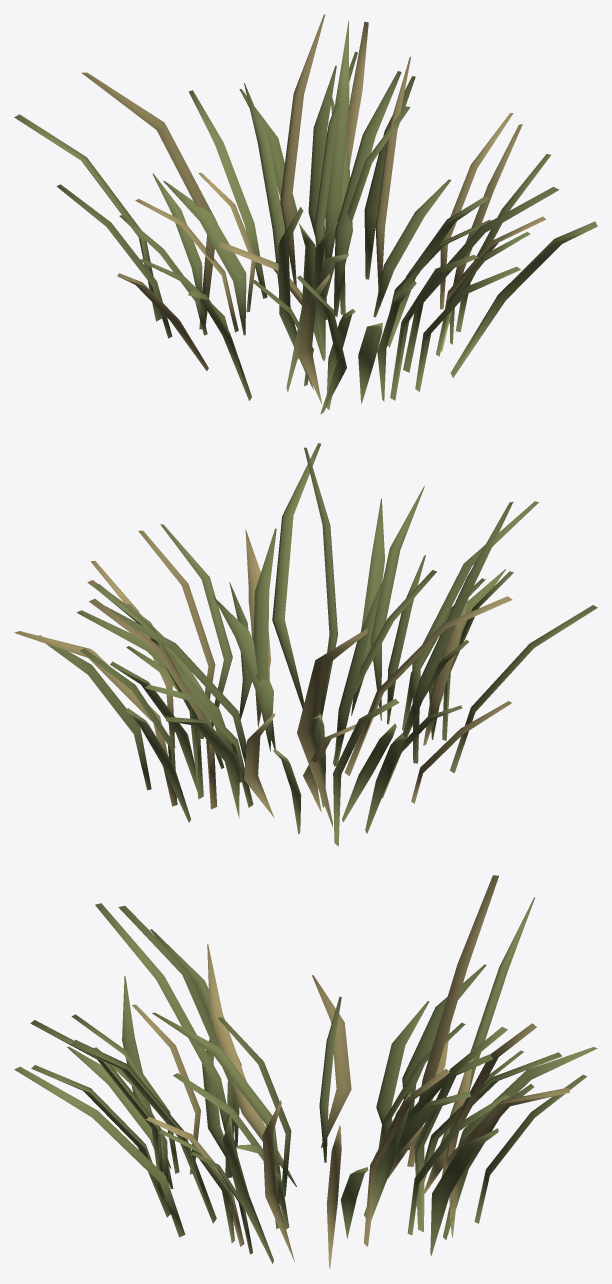
File: Herbes_Jeune_LOD0.fbx
3 views of the same model, one above another, from view 1: azimuth 30°, elevation 25°; view 2: azimuth 150°, elevation 25°; view 3: azimuth 270°, elevation 25° (orthographic). The views are drawn at different scales.
Parts seen in each view (by area): view 1: Herbes_Jeune; view 2: Herbes_Jeune; view 3: Herbes_Jeune.
Boxes of the visible parts, x1=… form: Herbes_Jeune: x1=14, y1=14, x2=597, y2=414; Herbes_Jeune: x1=14, y1=443, x2=597, y2=846; Herbes_Jeune: x1=14, y1=875, x2=597, y2=1268.
Size of the model in its own units: 43 by 24.22 by 50.35.
